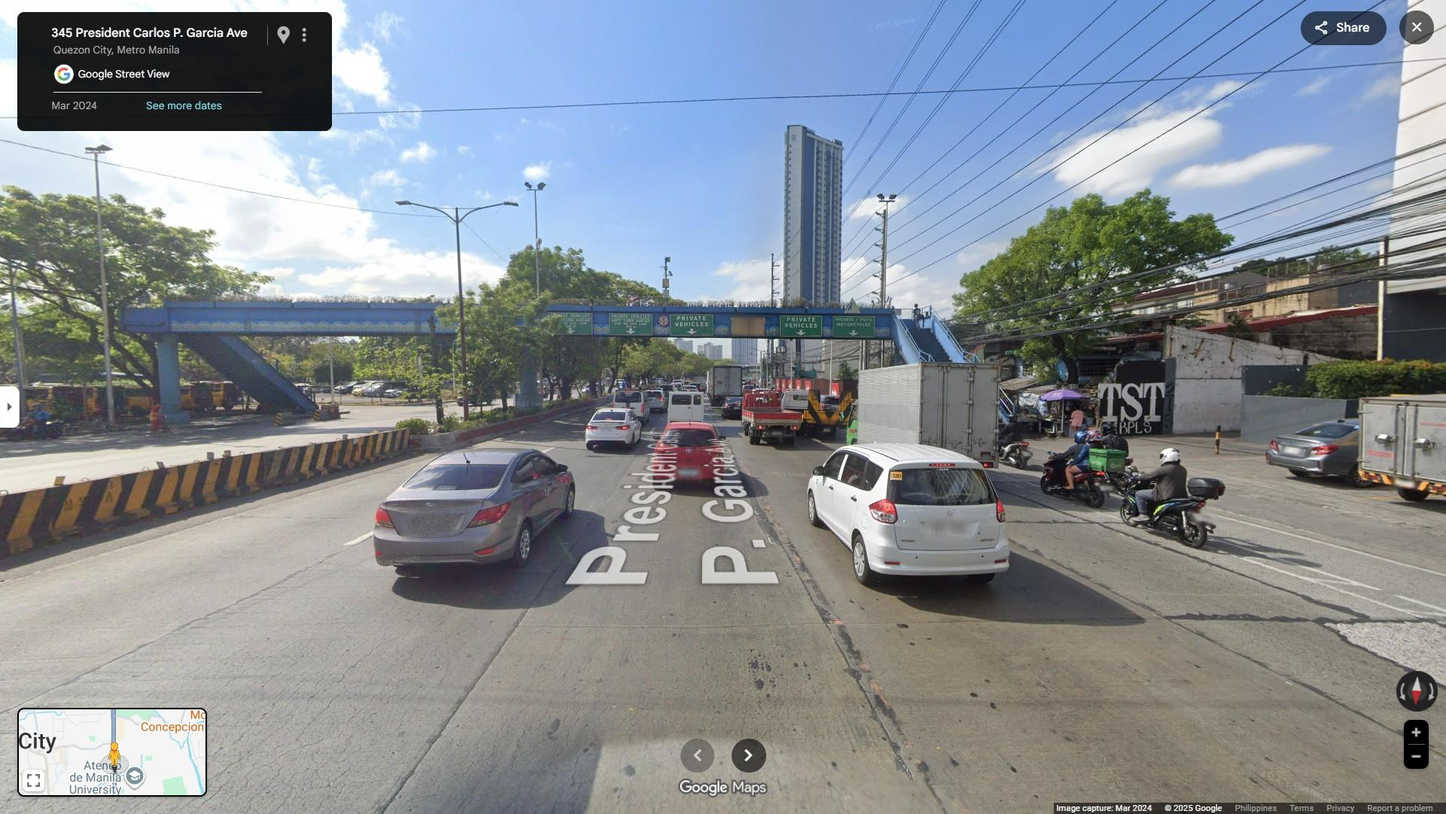pedestrian: (147, 403, 164, 438), (1070, 405, 1084, 438), (1084, 400, 1095, 434), (913, 302, 924, 332)
